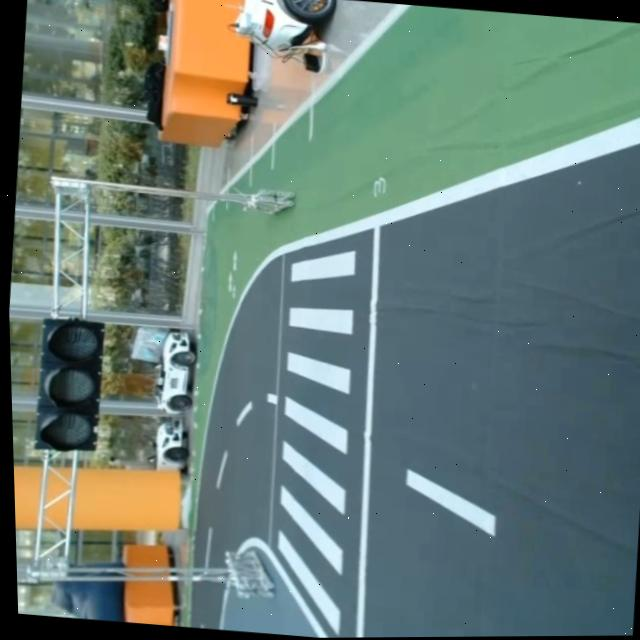traffic-light: (27, 309, 110, 460)
